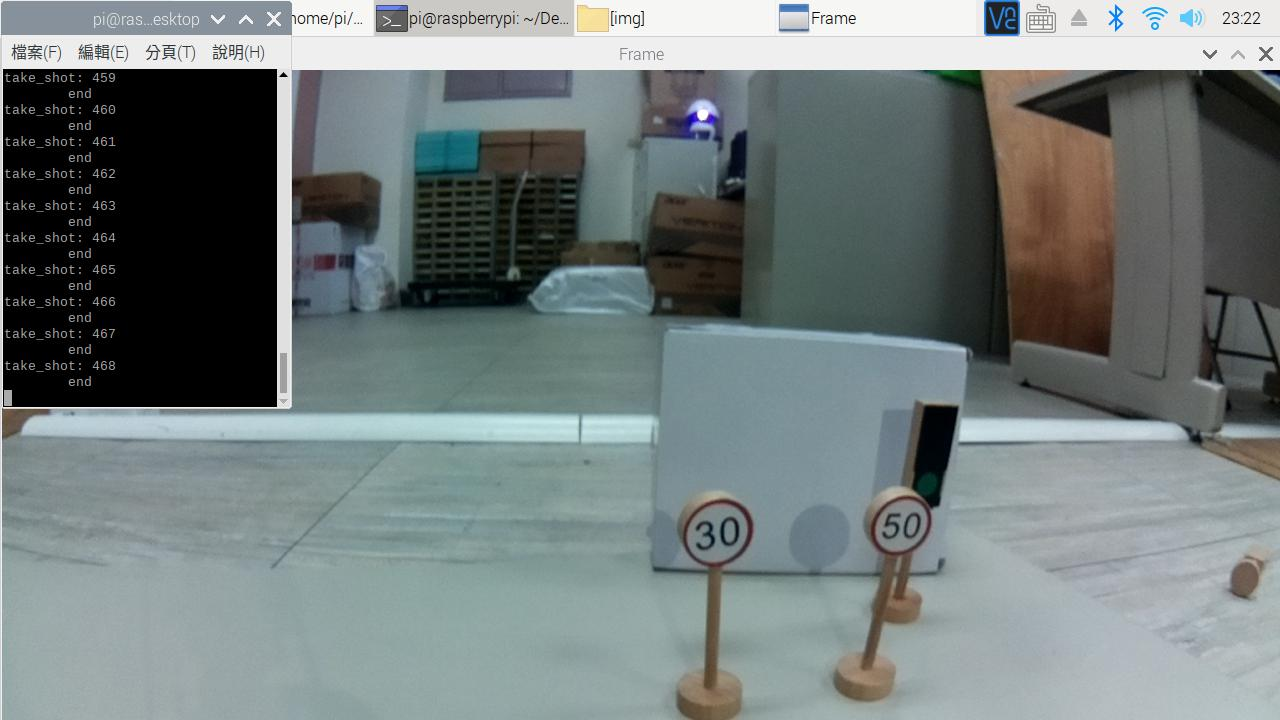Green: (907, 392, 961, 508)
Speed30: (669, 492, 760, 570)
Speed50: (859, 490, 929, 559)
